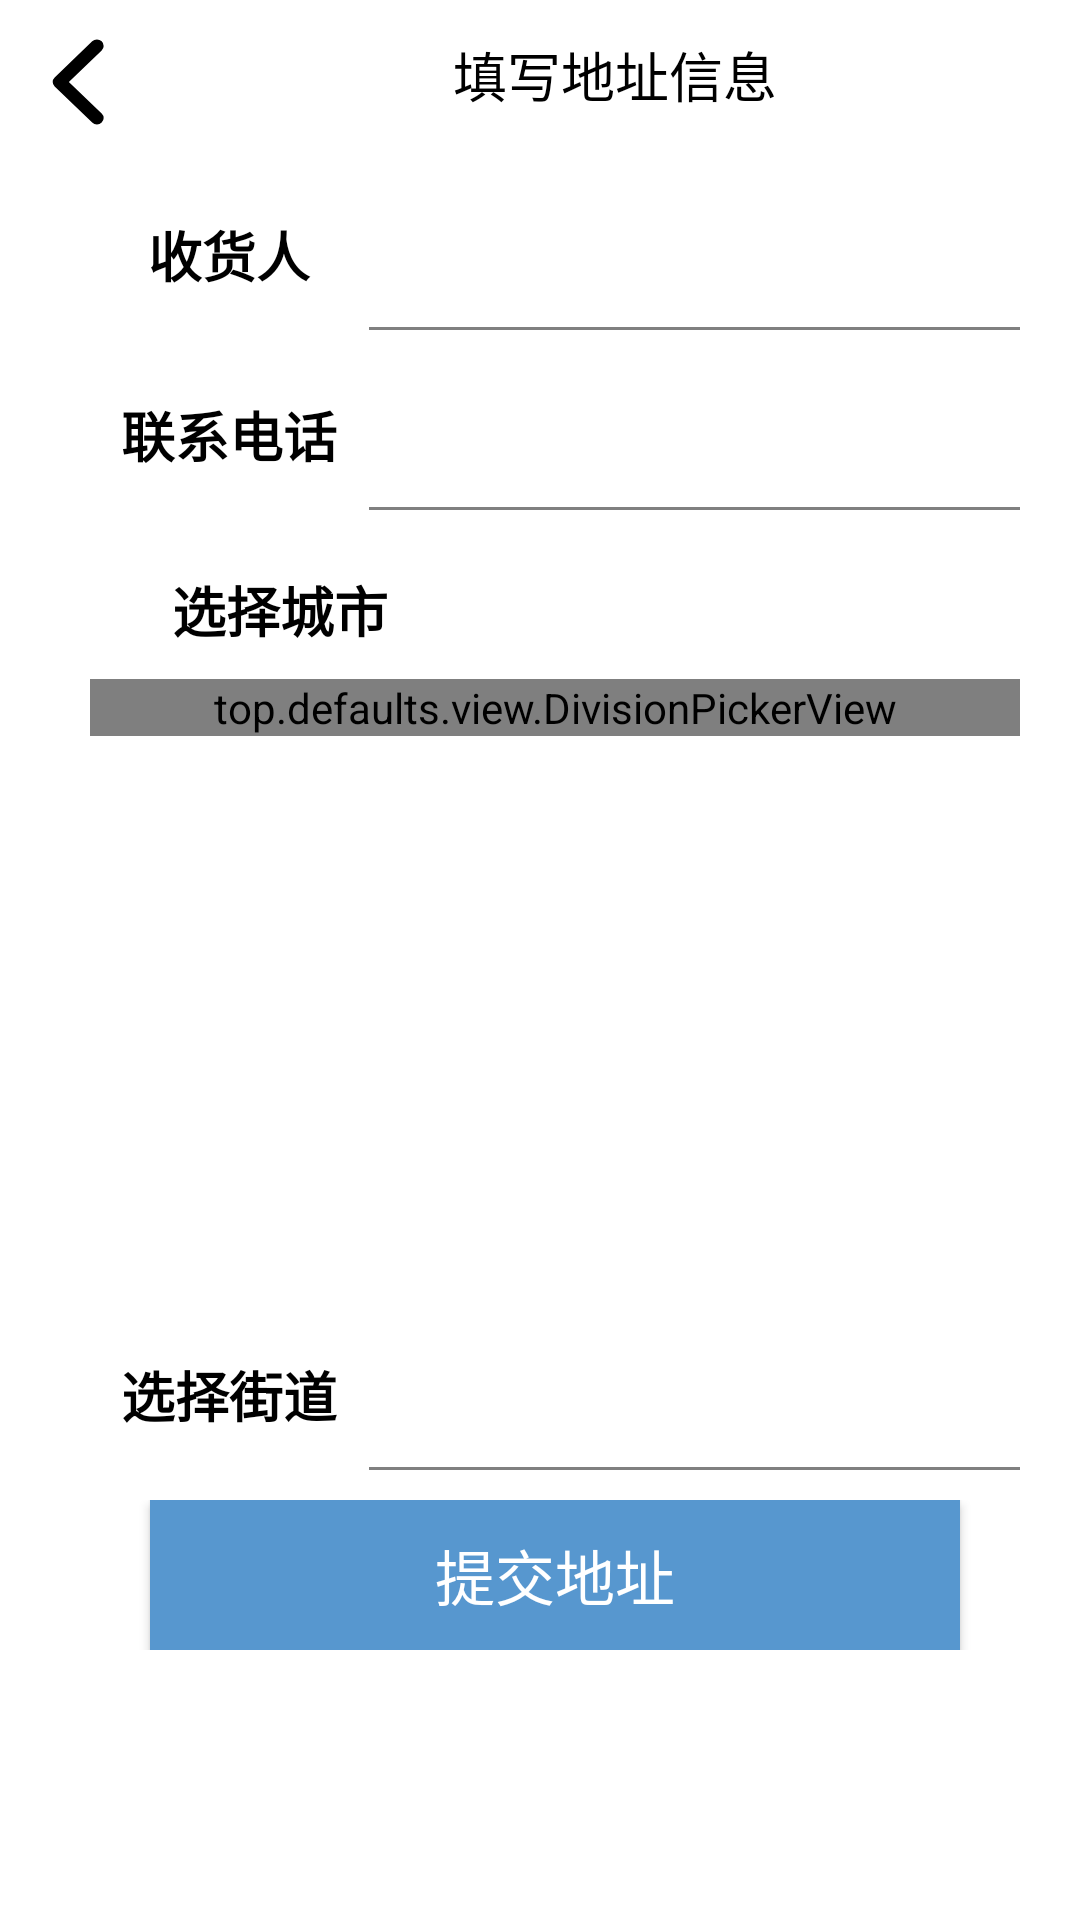

Icon bounding boxes for this 1080 x 1920 phone screenshot, format (x1, y1, x2, y2):
arrow back: (52, 39, 104, 125)
